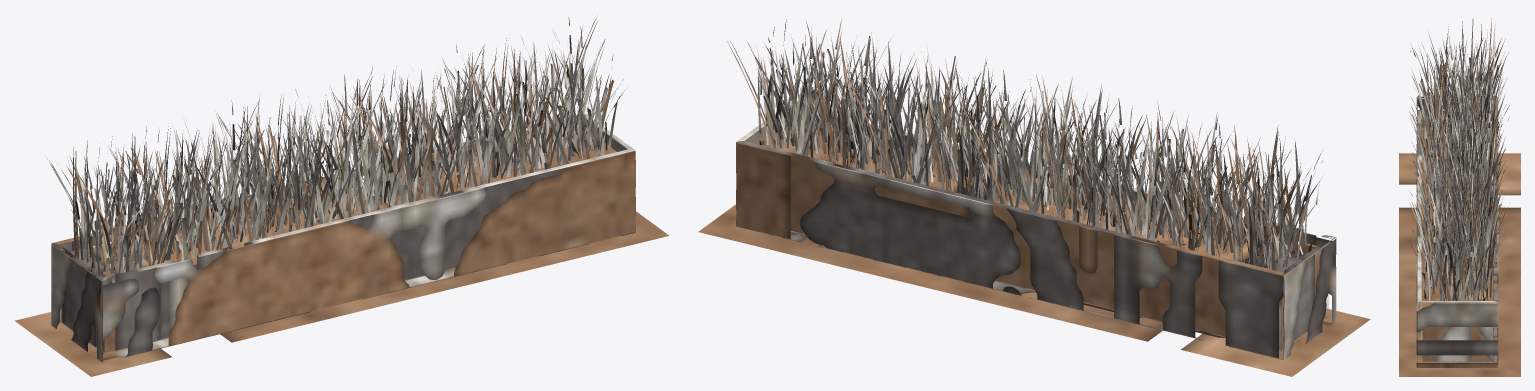
File: raw_model.obj
The picture shows the model from 3 angles, left to right: view 1: azimuth 30°, elevation 25°; view 2: azimuth 150°, elevation 25°; view 3: azimuth 270°, elevation 25°; orthographic projection. The views are drawn at different scales.
Visible parts, largest first — view 1: glass_001, solid_001, shadow, solid_002; view 2: glass_001, solid_001, shadow, solid_002; view 3: glass_001, shadow, solid_001, solid_002.
Part boxes in pixels (left/top/right/bottom): glass_001: left=45, top=17, right=626, bottom=275; solid_001: left=51, top=113, right=635, bottom=362; shadow: left=14, top=211, right=669, bottom=376; solid_002: left=61, top=129, right=616, bottom=352; glass_001: left=727, top=19, right=1322, bottom=271; solid_001: left=736, top=104, right=1336, bottom=359; shadow: left=698, top=204, right=1370, bottom=376; solid_002: left=755, top=120, right=1325, bottom=348; glass_001: left=1409, top=18, right=1510, bottom=300; shadow: left=1399, top=153, right=1520, bottom=376; solid_001: left=1416, top=96, right=1498, bottom=367; solid_002: left=1422, top=106, right=1492, bottom=360.
Bounding box in the file's own units: 0.6807 × 0.2208 × 0.1565.
